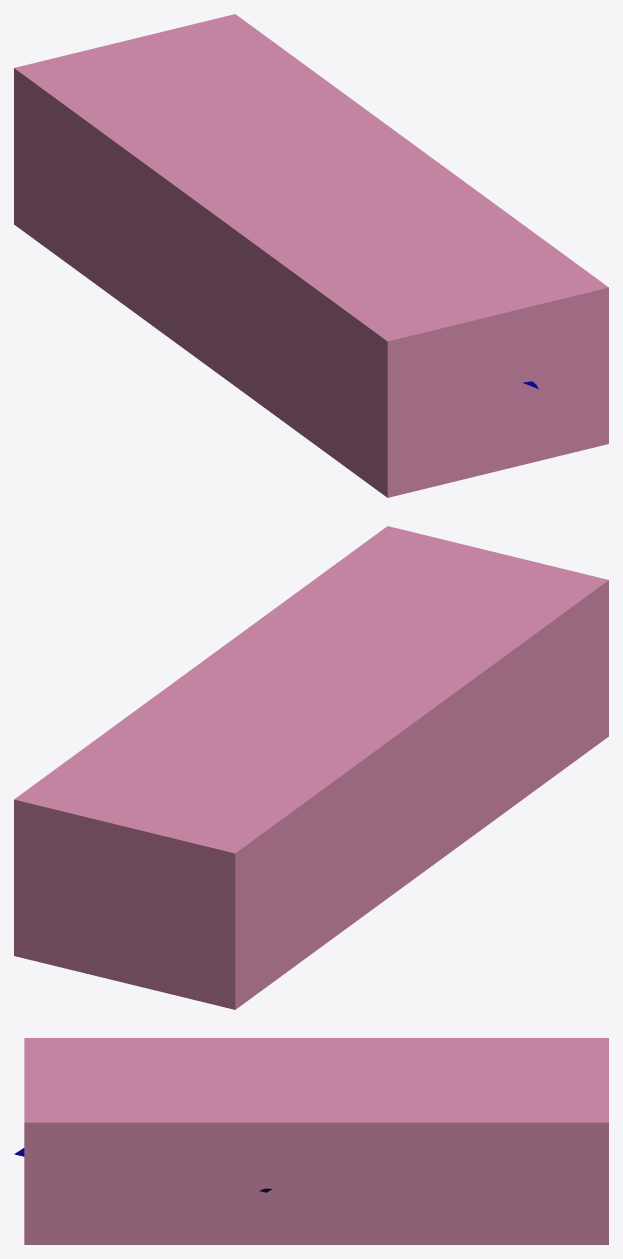
The model's file is tree_oak_dead_b.dae.
The picture shows the model from 3 angles, top to bottom: view 1: azimuth 30°, elevation 25°; view 2: azimuth 150°, elevation 25°; view 3: azimuth 270°, elevation 25°; orthographic projection. The views are drawn at different scales.
Visible parts, largest first — view 1: Untitled; view 2: Untitled; view 3: Untitled.
Part boxes in pixels (x1,y1,x2,y2): Untitled: (14, 14, 608, 497); Untitled: (14, 526, 608, 1009); Untitled: (24, 1038, 608, 1244).
Bounding box in the file's own units: 2.58 × 7.56 × 1.72.
